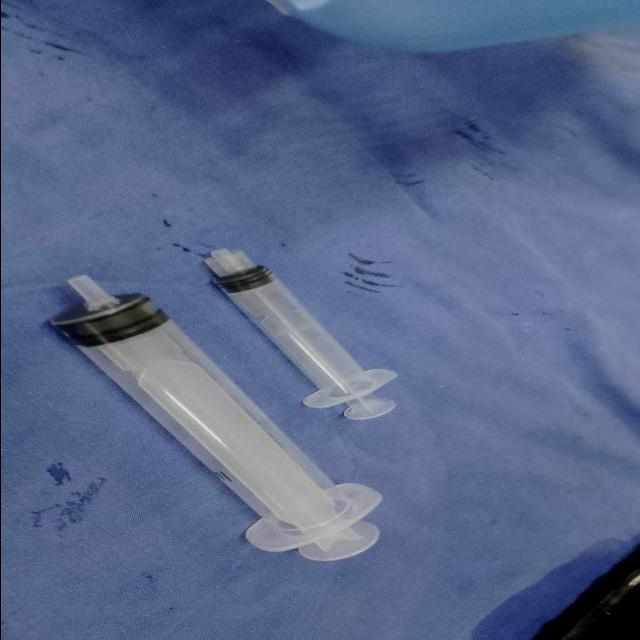Sharps: (48, 273, 385, 562), (201, 246, 399, 421)
